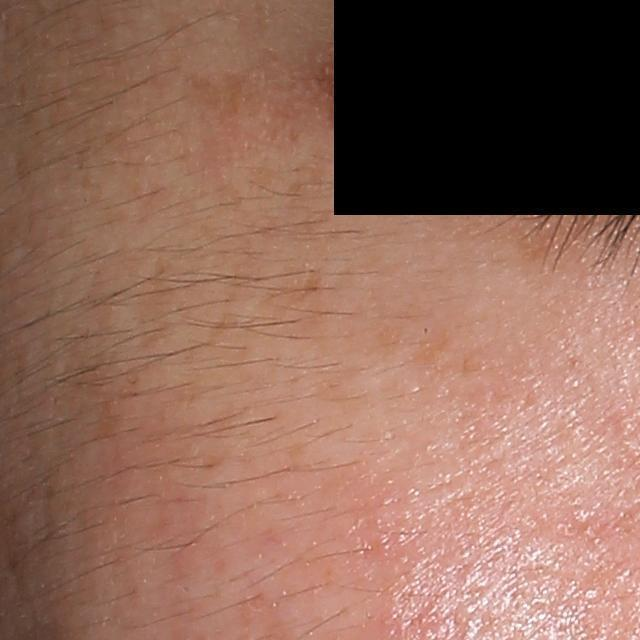melasma: (177, 64, 294, 140), (132, 236, 199, 353), (503, 201, 623, 264), (413, 325, 458, 371)
